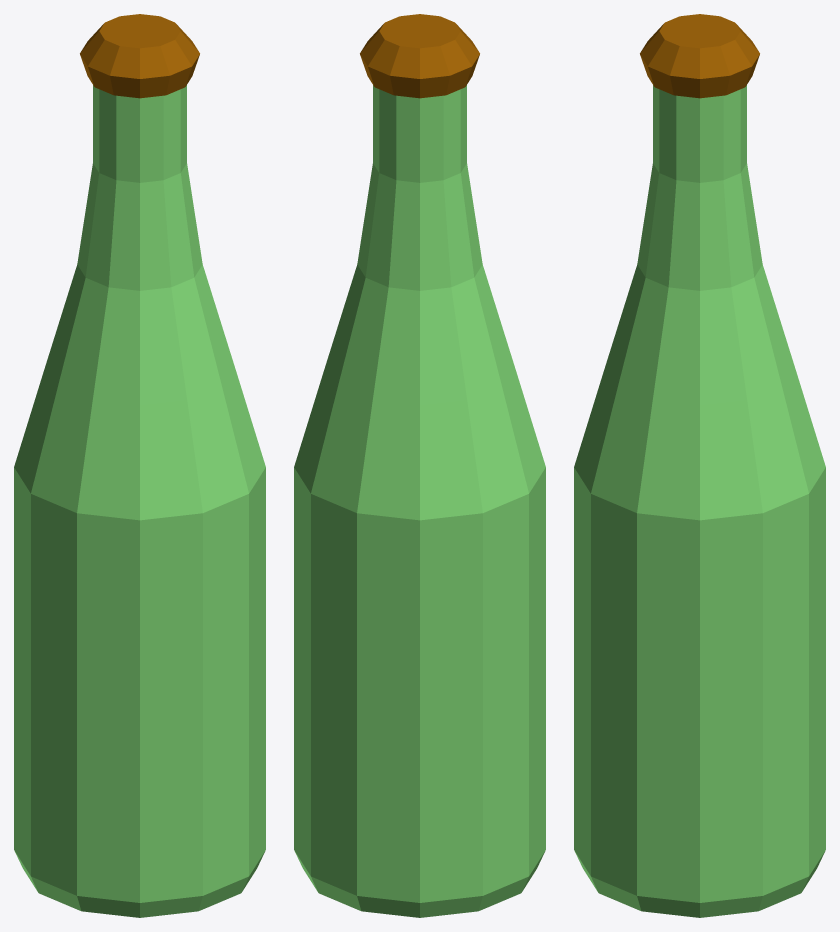
File: cider_bottle_full.fbx
3 views of the same model, side by side, from view 1: azimuth 30°, elevation 25°; view 2: azimuth 150°, elevation 25°; view 3: azimuth 270°, elevation 25° (orthographic).
Visible parts, largest first — view 1: cider_bottle; view 2: cider_bottle; view 3: cider_bottle.
Part boxes in pixels (x1,y1,x2,y2): cider_bottle: (14, 14, 265, 917); cider_bottle: (294, 14, 545, 917); cider_bottle: (574, 14, 825, 917).
Bounding box in the file's own units: 14.87 × 55.02 × 14.87.
